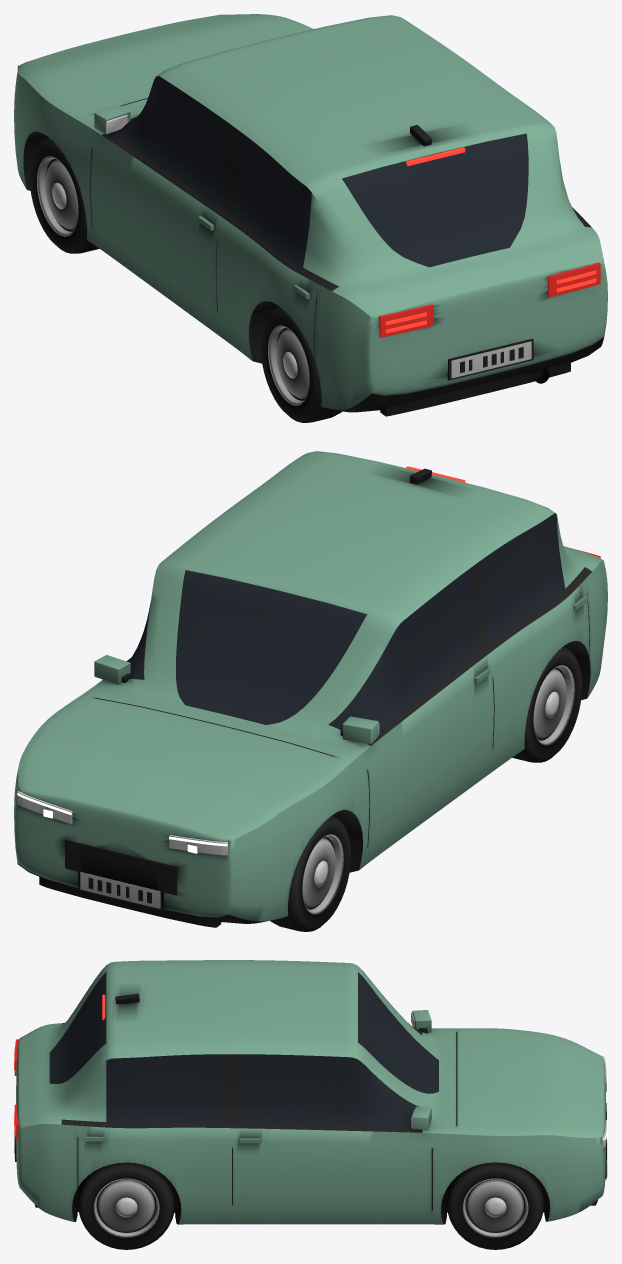
File: t_hatch.glb
3 views of the same model, one above another, from view 1: azimuth 30°, elevation 25°; view 2: azimuth 150°, elevation 25°; view 3: azimuth 270°, elevation 25° (orthographic). The views are drawn at different scales.
Visible parts, largest first — view 1: Body, Details, Wheel_RL, Wheel_FL, Rounded; view 2: Body, Details, Wheel_FL, Wheel_RL, Rounded; view 3: Body, Wheel_FR, Wheel_RR, Rounded, Details.
Part boxes in pixels (box(x1,y1,x2,y2)): Body: box(14, 14, 607, 412); Details: box(17, 14, 600, 416); Wheel_RL: box(260, 306, 341, 422); Wheel_FL: box(29, 137, 99, 253); Rounded: box(94, 105, 431, 146); Body: box(14, 451, 607, 923); Details: box(17, 466, 600, 927); Wheel_FL: box(270, 815, 351, 931); Wheel_RL: box(512, 646, 582, 762); Rounded: box(94, 468, 431, 744); Body: box(16, 960, 605, 1224); Wheel_FR: box(447, 1162, 543, 1249); Wheel_RR: box(78, 1162, 174, 1249); Rounded: box(115, 993, 431, 1129); Details: box(14, 994, 607, 1207).
Size of the model in its own units: 1.78 by 1.54 by 4.03.
